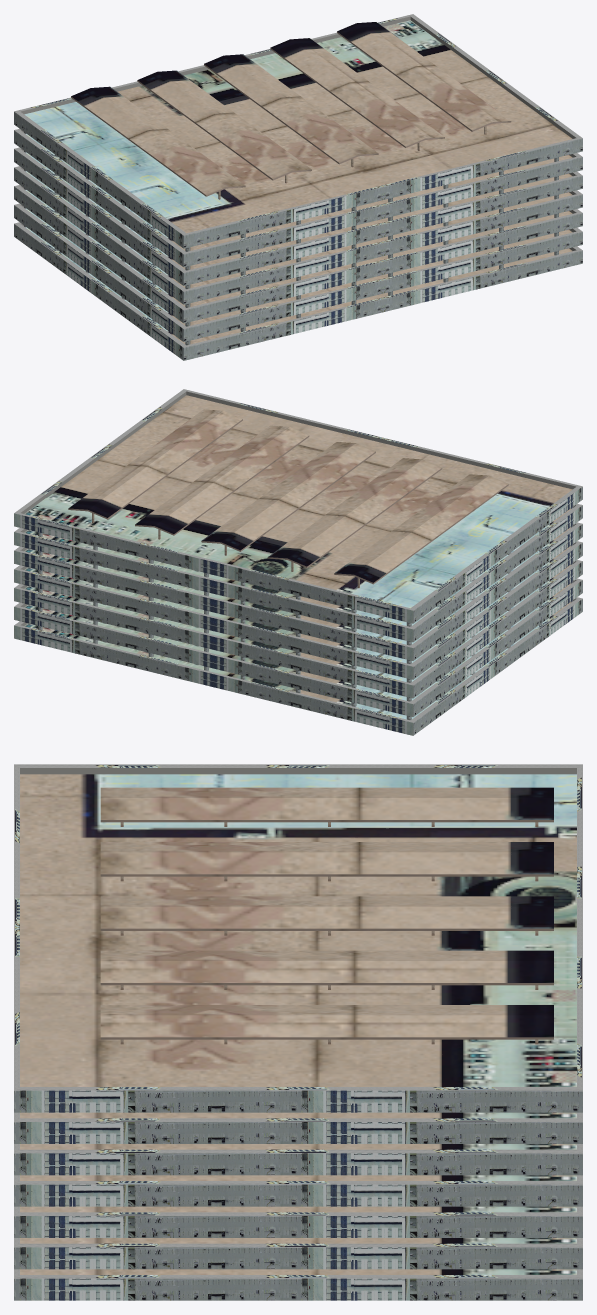
File: Garage6.exact.glb
3 views of the same model, one above another, from view 1: azimuth 30°, elevation 25°; view 2: azimuth 150°, elevation 25°; view 3: azimuth 270°, elevation 25° (orthographic). The views are drawn at different scales.
Parts seen in each view (by area): view 1: Garage6; view 2: Garage6; view 3: Garage6.
Part boxes in pixels (box(x1,y1,x2,y2)): Garage6: box(14, 14, 582, 360); Garage6: box(14, 389, 582, 735); Garage6: box(14, 764, 582, 1300).
Bounding box in the file's own units: 112 × 37.01 × 82.31.
1 material, 1 textured.
